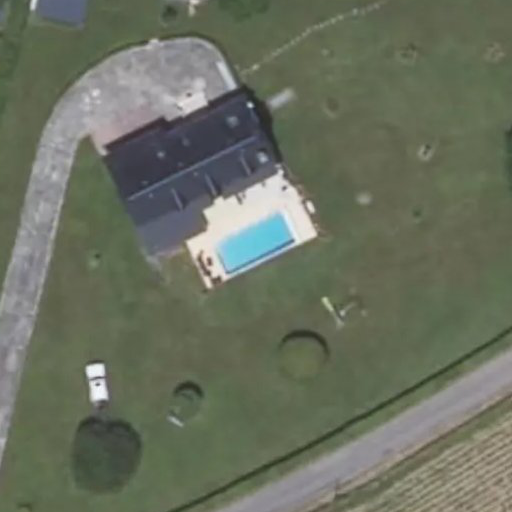pool: (206, 240, 305, 243)
